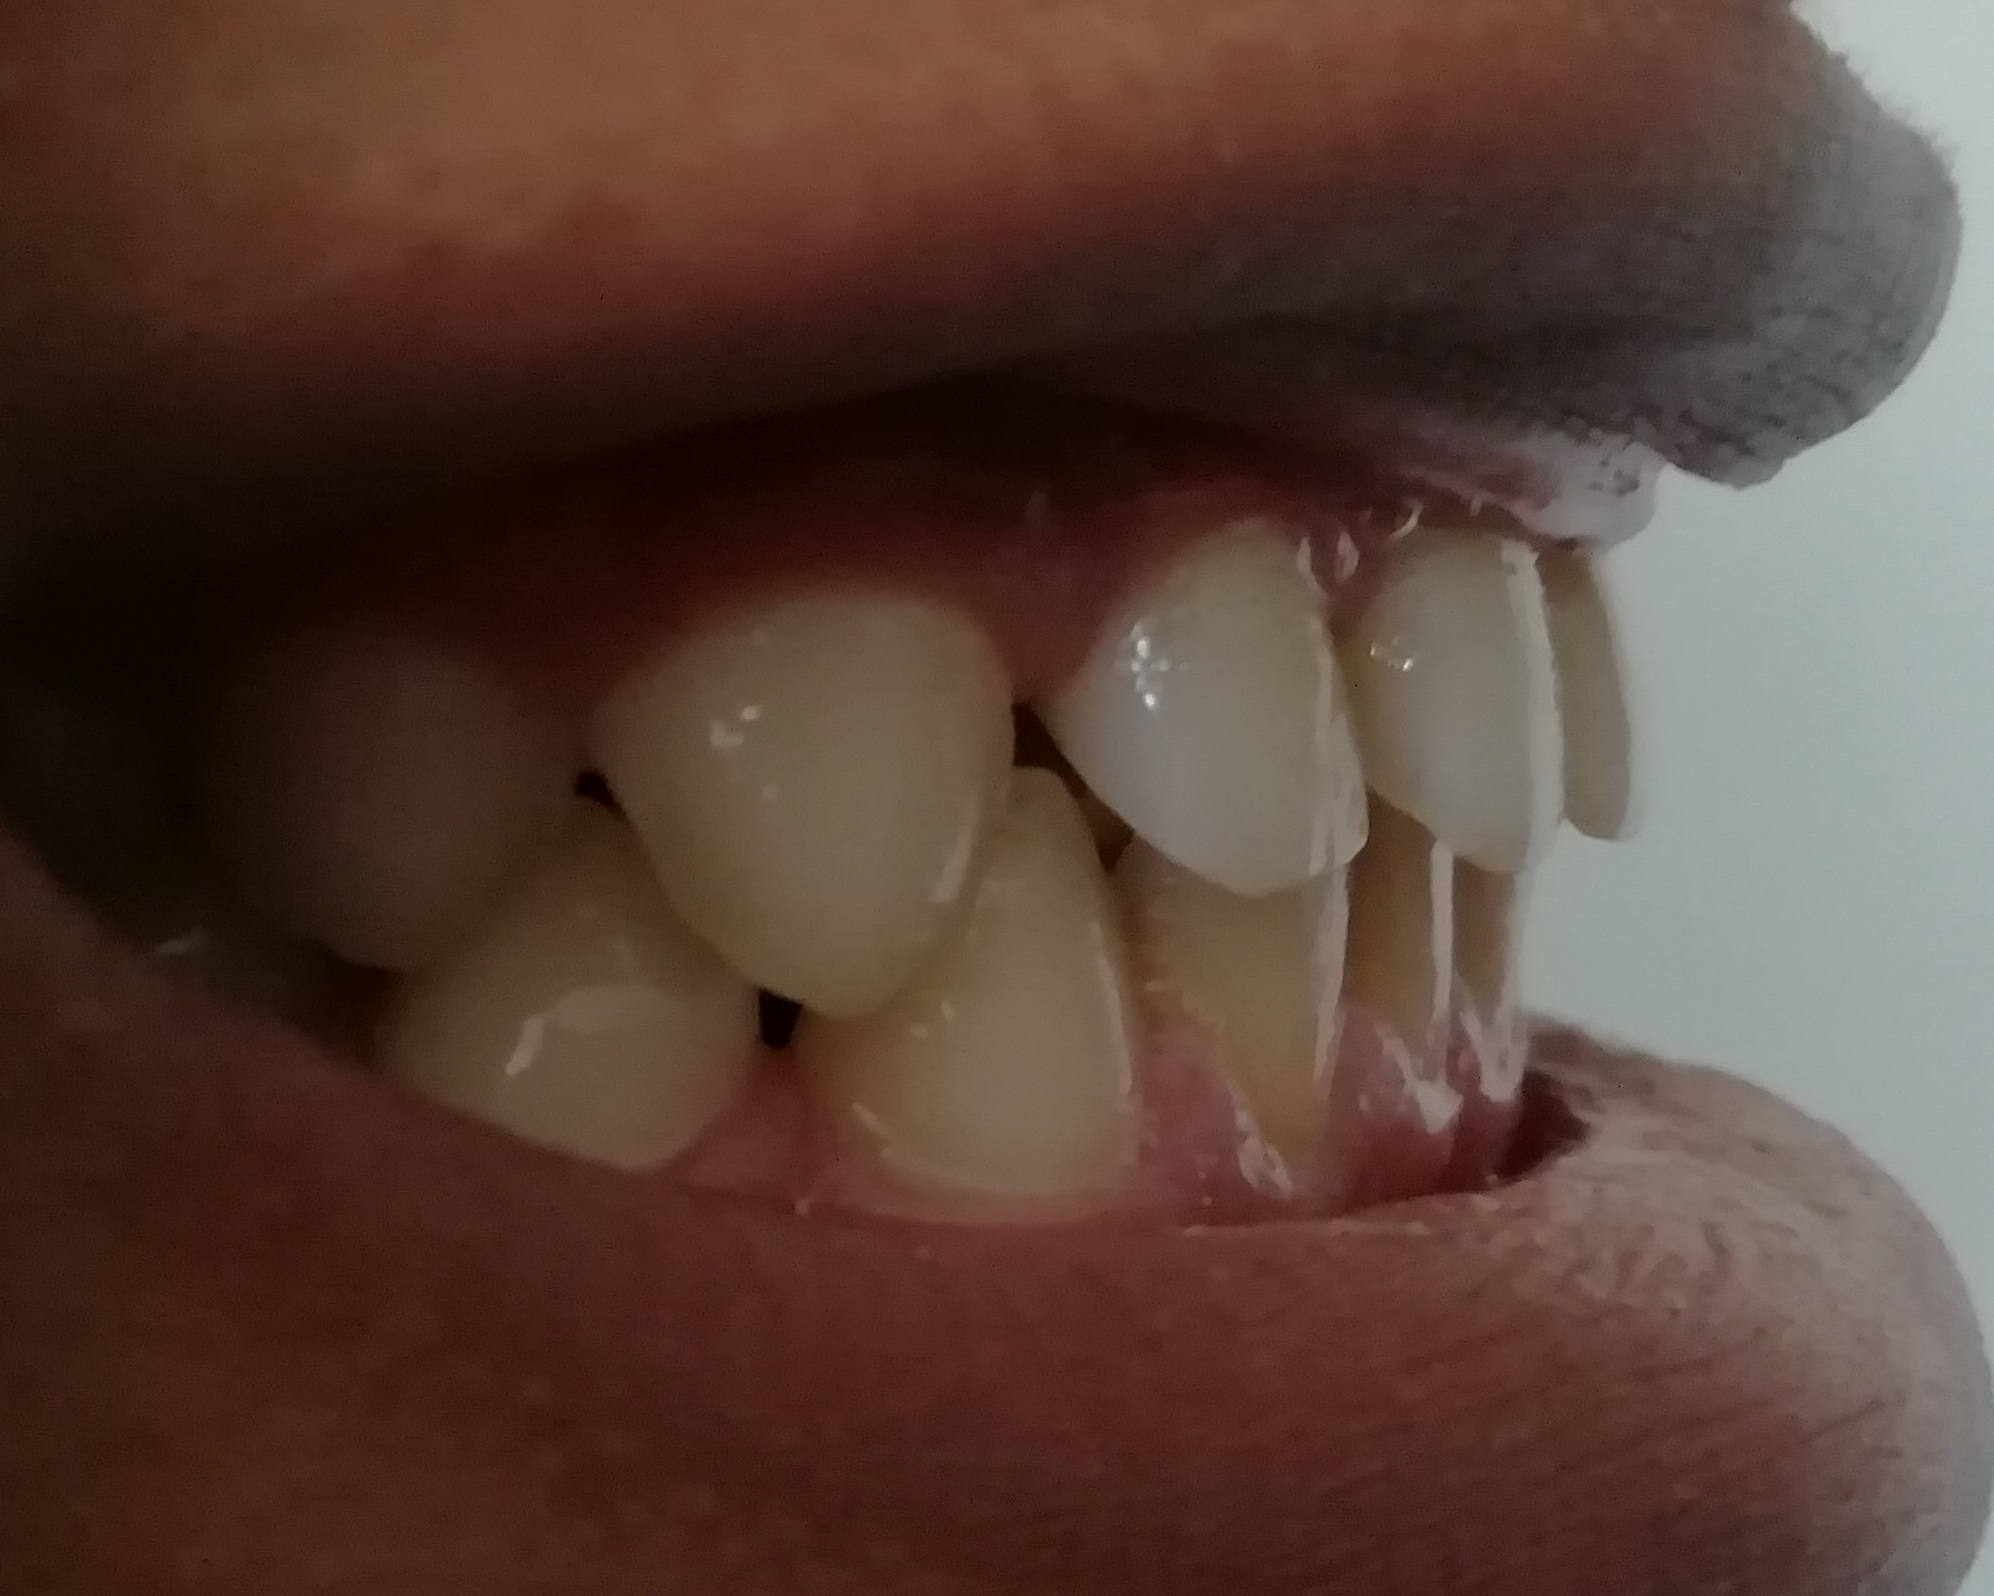boca: (158, 523, 1655, 1187)
